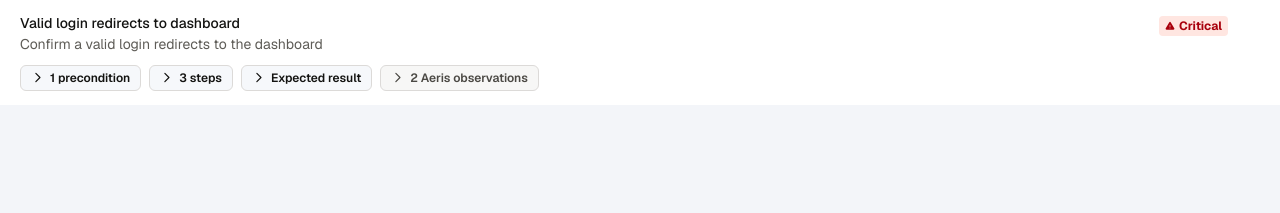
Test case: CaseCard observations › keeps the Aeris observations behind a toggle so the card stays scannable
Check: the text "never checks the session cookie" is not shown
Click the button "2 Aeris observations" at coordinates (460, 78), box left=380, top=64, right=539, bottom=90
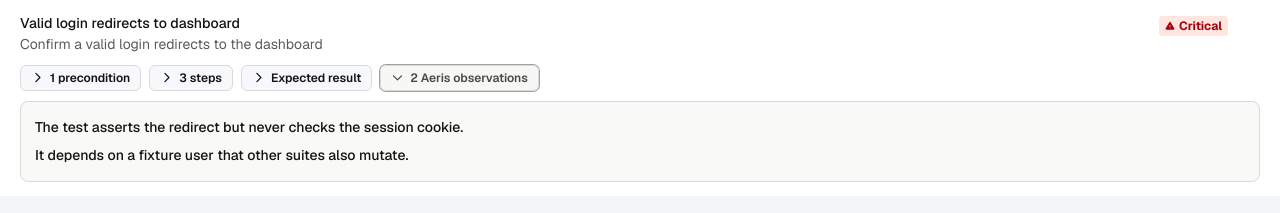
Check: the button "2 Aeris observations" is expanded, box left=380, top=64, right=539, bottom=90
Check: the list item "never checks the session cookie" is shown, box left=35, top=118, right=463, bottom=136
Check: the list item "It depends on a fixture user that other suites also mutate." is shown, box left=35, top=146, right=408, bottom=164
